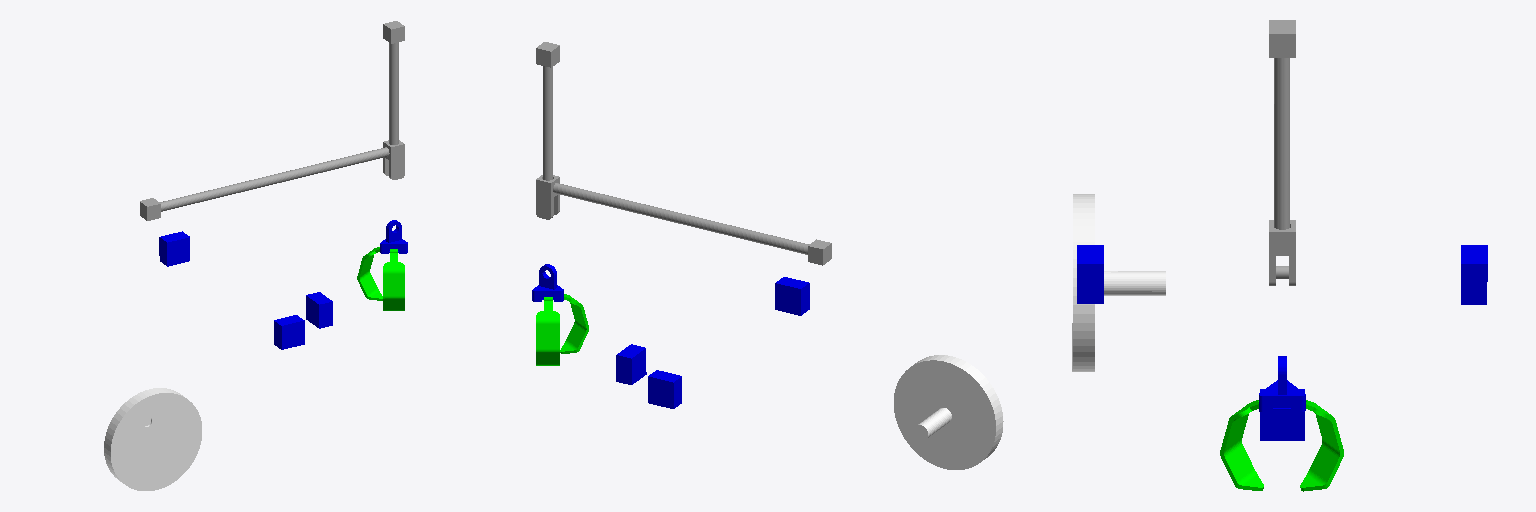
The robot description file, URDF, robot "bot":
<?xml version="1.0" encoding="utf-8"?>


<robot name="bot">
	
	<material name="gray">
		<color rgba="1 1 1 1"/>
	</material>
	<material name="orange">
		<color rgba="1 0.7 0 1"/>
	</material>
	<material name="black">
		<color rgba="0 0 0 1"/>
	</material>
	<material name="green">
		<color rgba="0 1 0 1"/>
	</material>
	<material name="blue">
		<color rgba="0 0 1 1"/>
	</material>
	<material name="cream">
		<color rgba="0.7 0.7 0.7 1"/>
	</material>


	<!--<link name="origin">
		<inertial>
			j  <origin xyz="0 0 0" rpy="0 0 0"/>
			<mass value="0.0001"/>
			<inertia ixx="0" ixy="0" ixz="0" iyy="0" iyz="0" izz="0"/>
		</inertial>
		<visual>
			<origin xyz="0 0 0" rpy="0 0 0"/>
			<geometry>
				<box size="0.00005 0.00005 0.00005"/>
			</geometry>
		</visual>
		<collision>
			<origin xyz="0 0 0" rpy="0 0 0"/>
			<geometry>
				<box size="0.00005 0.00005 0.00005"/>
			</geometry>
		</collision>
	</link>-->

	<link name="base_link">
		<inertial>
			<origin xyz="0 0 0.12" rpy="0 0 0"/>
			<mass value="10"/>
			<inertia ixx="10" ixy="10" ixz="10" iyy="10" iyz="10" izz="10"/>
		</inertial>
		<visual>
			<origin xyz="0 0 0.15" rpy="0 0 0"/>
			<geometry>
				<mesh filename="package://trial/meshes/base_link.STL" />
			</geometry>
			<material name = "orange"/>
		</visual>
		<collision>
			<origin xyz="0 0 0.12" rpy="0 0 0"/>
			<geometry>
				<mesh filename="package://trial/meshes/base_link.STL" />
			</geometry>
		</collision>
	</link>

	<!--<xacro:macro name="Wheel" params="X Y F">-->
	<link name="FRW">
		<inertial>
			<origin xyz="0 0 0.12" rpy="1.57 0 0"/>
			<mass value="3"/>
			<inertia ixx="10" ixy="10" ixz="10" iyy="10" iyz="10" izz="10"/>
		</inertial>
		<visual>
			<origin xyz="0 0 0.12" rpy="1.57 0 0"/>
			<geometry>
				<mesh filename="package://trial/meshes/FRW.STL" />
			</geometry>
			<material name = "gray"/>
		</visual>
		<collision>
			<origin xyz="0 0 0.12" rpy="1.57 0 0"/>
			<geometry>
				<mesh filename="package://trial/meshes/FRW.STL" />
			</geometry>
		</collision>
	</link>

	<joint name="FRWJ" type="continuous">
		<parent link = "base_link"/>
		<child link = "FRW"/>
		<origin xyz="0.125 0 0" rpy="0 0 0"/>
		<axis xyz="0 1 0"/>
	</joint>
	<!--</xacro:macro>

	<xacro:macro X="F" Y="R" F="package://trial/meshes/FRW.STL"/>
	<xacro:macro X="R" Y="R"/>
	<xacro:macro X="F" Y="L"/>
	<xacro:macro X="R" Y="L"/>-->

	<link name="RRW">

		<inertial>
			<origin xyz="0 0 0.12" rpy="1.57 0 0"/>

			<mass value="3"/>

			<inertia ixx="10" ixy="10" ixz="10" iyy="10" iyz="10" izz="10"/>

		</inertial>

		<visual>

			<origin xyz="0 0 0.12" rpy="1.57 0 0"/>

			<geometry>

				<mesh filename="package://trial/meshes/RRW.STL" />
			</geometry>
			<material name = "gray"/>
		</visual>
		<collision>
			<origin xyz="0 0 0.12" rpy="1.57 0 0"/>
			<geometry>
				<mesh filename="package://trial/meshes/RRW.STL" />
			</geometry>
		</collision>
	</link>

	<joint name="RRWJ" type="continuous">
		<parent link = "base_link"/>
		<child link = "RRW"/>
		<origin xyz="-0.125 0 0" rpy="0 0 0"/>
		<axis xyz="0 1 0"/>
	</joint>

	<link name="FLW">

		<inertial>

			<origin xyz="0 0 0.12" rpy="1.57 0 0"/>

			<mass value="3"/>

			<inertia ixx="10" ixy="10" ixz="10" iyy="10" iyz="10" izz="10"/>

		</inertial>

		<visual>

			<origin xyz="0 0 0.12" rpy="1.57 0 0"/>

			<geometry>

				<mesh filename="package://trial/meshes/FLW.STL" />
			</geometry>
			<material name = "gray"/>
		</visual>
		<collision>
			<origin xyz="0 0 0.12" rpy="1.57 0 0"/>
			<geometry>
				<mesh filename="package://trial/meshes/FLW.STL" />
			</geometry>
		</collision>
	</link>

	<joint name="FLWJ" type="continuous">
		<parent link = "base_link"/>
		<child link = "FLW"/>
		<origin xyz="0.125 0 0" rpy="0 0 0"/>
		<axis xyz="0 1 0"/>
	</joint>

	<link name="RLW">

		<inertial>

			<origin xyz="0 0 0.12" rpy="1.57 0 0"/>

			<mass value="3"/>

			<inertia ixx="10" ixy="10" ixz="10" iyy="10" iyz="10" izz="10"/>

		</inertial>

		<visual>

			<origin xyz="0 0 0.12" rpy="1.57 0 0"/>

			<geometry>

				<mesh filename="package://trial/meshes/RLW.STL" />
			</geometry>
			<material name = "gray"/>
		</visual>
		<collision>
			<origin xyz="0 0 0.12" rpy="1.57 0 0"/>
			<geometry>
				<mesh filename="package://trial/meshes/RLW.STL" />
			</geometry>
		</collision>
	</link>

	<joint name="RLWJ" type="continuous">
		<parent link = "base_link"/>
		<child link = "RLW"/>
		<origin xyz="-0.125 0 0" rpy="0 0 0"/>
		<axis xyz="0 1 0"/>
	</joint>



	<link name="FC">
		<inertial>
			<origin xyz="0 0 0" rpy="1.57 0 0"/>
			<mass value="0.25"/>
			<inertia ixx="0" ixy="0" ixz="0" iyy="0" iyz="0" izz="0"/>
		</inertial>
		<visual>
			<origin xyz="0 0 0" rpy="1.57 0 0"/>
			<geometry>
				<mesh filename="package://trial/meshes/FC.STL" />
			</geometry>
			<material name = "blue"/>
		</visual>
		<collision>
			<origin xyz="0 0 0" rpy="1.57 0 0"/>
			<geometry>
				<mesh filename="package://trial/meshes/FC.STL" />
			</geometry>
		</collision>
	</link>

	<joint name="FCJ" type="fixed">
		<parent link = "base_link"/>
		<child link = "FC"/>
		<origin xyz="0 0 0.12" rpy="0 0 0"/>
	</joint>

	<link name="LC">

		<inertial>

			<origin xyz="0 0 0" rpy="1.57 0 0"/>

			<mass value="0.25"/>

			<inertia ixx="0" ixy="0" ixz="0" iyy="0" iyz="0" izz="0"/>

		</inertial>

		<visual>

			<origin xyz="0 0 0" rpy="1.57 0 0"/>
			<geometry>
				<mesh filename="package://trial/meshes/LC.STL" />
			</geometry>
			<material name = "blue"/>
		</visual>
		<collision>
			<origin xyz="0 0 0" rpy="1.57 0 0"/>
			<geometry>
				<mesh filename="package://trial/meshes/LC.STL" />
			</geometry>
		</collision>
	</link>

	<joint name="LCJ" type="fixed">
		<parent link = "base_link"/>
		<child link = "LC"/>
		<origin xyz="0 0 0.12" rpy="0 0 0"/>
	</joint>

	<link name="RC">

		<inertial>

			<origin xyz="0 0 0" rpy="1.57 0 0"/>

			<mass value="0.25"/>

			<inertia ixx="0" ixy="0" ixz="0" iyy="0" iyz="0" izz="0"/>

		</inertial>

		<visual>

			<origin xyz="0 0 0" rpy="1.57 0 0"/>
			<geometry>
				<mesh filename="package://trial/meshes/RC.STL" />
			</geometry>
			<material name = "blue"/>
		</visual>
		<collision>
			<origin xyz="0 0 0" rpy="1.57 0 0"/>
			<geometry>
				<mesh filename="package://trial/meshes/RC.STL" />
			</geometry>
		</collision>
	</link>

	<joint name="RCJ" type="fixed">
		<parent link = "base_link"/>
		<child link = "RC"/>
		<origin xyz="0 0 0.12" rpy="0 0 0"/>
	</joint>


	<link name="EP1">
		<inertial>
			<origin xyz="0 0 0" rpy="1.57 0 0"/>
			<mass value="0.5"/>
			<inertia ixx="0" ixy="0" ixz="0" iyy="0" iyz="0" izz="0"/>
		</inertial>
		<visual>
			<origin xyz="0 0 0.03" rpy="1.57 0 0"/>
			<geometry>
				<mesh filename="package://trial/meshes/EP1.STL" />
			</geometry>
			<material name = "cream"/>
		</visual>
		<collision>
			<origin xyz="0 0 0" rpy="1.57 0 0"/>
			<geometry>
				<mesh filename="package://trial/meshes/EP1.STL" />
			</geometry>
		</collision>
	</link>

	<joint name="EP1J" type="prismatic">
		<parent link = "base_link"/>
		<child link = "EP1"/>
		<origin xyz="0 0 0.12" rpy="0 0 0"/>
		<axis xyz="1 0 0"/>
		<limit upper="0" lower="-0.35" effort="10" velocity="0.1"/>
	</joint>

	<link name="EP2">
		<inertial>
			<origin xyz="0 0 0" rpy="1.57 0 0"/>
			<mass value="0.5"/>
			<inertia ixx="0" ixy="0" ixz="0" iyy="0" iyz="0" izz="0"/>
		</inertial>
		<visual>
			<origin xyz="0 0 0.12" rpy="1.57 0 0"/>
			<geometry>
				<mesh filename="package://trial/meshes/EP2.STL" />
			</geometry>
			<material name = "cream"/>
		</visual>
		<collision>
			<origin xyz="0 0 0" rpy="1.57 0 0"/>
			<geometry>
				<mesh filename="package://trial/meshes/EP2.STL" />
			</geometry>
		</collision>
	</link>

	<joint name="EP2J" type="prismatic">
		<parent link = "EP1"/>
		<child link = "EP2"/>
		<origin xyz="0 0 0.12" rpy="0 0 0"/>
		<axis xyz="0 0 1"/>
		<limit upper="0" lower="-0.23" effort="10" velocity="0.1"/>
	</joint>

	<link name="CH">
		<inertial>
			<origin xyz="0 0 0" rpy="1.57 0 0"/>
			<mass value="0.5"/>
			<inertia ixx="0" ixy="0" ixz="0" iyy="0" iyz="0" izz="0"/>
		</inertial>
		<visual>
			<origin xyz="0 0 0" rpy="1.57 0 0"/>
			<geometry>
				<mesh filename="package://trial/meshes/CH.STL" />
			</geometry>
			<material name = "blue"/>
		</visual>
		<collision>
			<origin xyz="0 0 0" rpy="1.57 0 0"/>
			<geometry>
				<mesh filename="package://trial/meshes/CH.STL" />
			</geometry>
		</collision>
	</link>

	<joint name="CHJ" type="revolute">
		<parent link = "EP2"/>
		<child link = "CH"/>
		<origin xyz="0 0 0" rpy="0 0 0"/>
		<axis xyz="0 1 0"/>
		<limit upper="0" lower="-0.35" effort="10" velocity="0.125"/>
	</joint>

	<link name="F1">
		<inertial>
			<origin xyz="0 0 0" rpy="1.57 0 0"/>
			<mass value="0.5"/>
			<inertia ixx="0" ixy="0" ixz="0" iyy="0" iyz="0" izz="0"/>
		</inertial>
		<visual>
			<origin xyz="0 0 0" rpy="1.57 0 0"/>
			<geometry>
				<mesh filename="package://trial/meshes/F1.STL" />
			</geometry>
			<material name = "green"/>
		</visual>
		<collision>
			<origin xyz="0 0 0" rpy="1.57 0 0"/>
			<geometry>
				<mesh filename="package://trial/meshes/F1.STL" />
			</geometry>
		</collision>
	</link>

	<joint name="F1J" type="revolute">
		<parent link = "CH"/>
		<child link = "F1"/>
		<origin xyz="0 0 0" rpy="0 0 0"/>
		<axis xyz="1 1 0"/>
		<limit upper="0" lower="-0.35" effort="10" velocity="0.125"/>
	</joint>

	<link name="F2">
		<inertial>
			<origin xyz="0 0 0" rpy="1.57 0 0"/>
			<mass value="0.5"/>
			<inertia ixx="0" ixy="0" ixz="0" iyy="0" iyz="0" izz="0"/>
		</inertial>
		<visual>
			<origin xyz="0 0 0" rpy="1.57 0 0"/>
			<geometry>
				<mesh filename="package://trial/meshes/F2.STL" />
			</geometry>
			<material name = "green"/>
		</visual>
		<collision>
			<origin xyz="0 0 0" rpy="1.57 0 0"/>
			<geometry>
				<mesh filename="package://trial/meshes/F2.STL" />
			</geometry>
		</collision>
	</link>

	<joint name="F2J" type="revolute">
		<parent link = "CH"/>
		<child link = "F2"/>
		<origin xyz="0 0 0" rpy="0 0 0"/>
		<axis xyz="1 -1 0"/>
		<limit upper="0" lower="-0.35" effort="10" velocity="0.125"/>
	</joint>

	<link name="F3">
		<inertial>
			<origin xyz="0 0 0" rpy="1.57 0 0"/>
			<mass value="0.5"/>
			<inertia ixx="0" ixy="0" ixz="0" iyy="0" iyz="0" izz="0"/>
		</inertial>
		<visual>
			<origin xyz="0 0 0" rpy="1.57 0 0"/>
			<geometry>
				<mesh filename="package://trial/meshes/F3.STL" />
			</geometry>
			<material name = "green"/>
		</visual>
		<collision>
			<origin xyz="0 0 0" rpy="1.57 0 0"/>
			<geometry>
				<mesh filename="package://trial/meshes/F3.STL" />
			</geometry>
		</collision>
	</link>

	<joint name="F3J" type="revolute">
		<parent link = "CH"/>
		<child link = "F3"/>
		<origin xyz="0 0 0" rpy="0 0 0"/>
		<axis xyz="0 0 1"/>
		<limit upper="0" lower="-0.35" effort="10" velocity="0.125"/>
	</joint>
</robot>

--- Render facts (derived) ---
3 views of the same robot in one strip: view 1: azimuth 30°, elevation 25°; view 2: azimuth 150°, elevation 25°; view 3: azimuth 270°, elevation 25° (orthographic).
Model bot with 14 links and 13 joints (4 revolute, 4 continuous, 2 prismatic, 3 fixed), rooted at base_link, posed all joints at 0.
Links seen in each view (by area): view 1: RRW, EP1, EP2, F3, RC, LC, FC, F1, CH; view 2: RRW, EP1, EP2, F1, RC, LC, FC, F3, CH; view 3: RRW, EP2, F3, F1, LC, RC, CH, FC, EP1.
Boxes of the visible links, left/top/right/bottom form: RRW: left=104, top=388, right=201, bottom=490; EP1: left=140, top=140, right=404, bottom=220; EP2: left=383, top=21, right=404, bottom=179; F3: left=383, top=249, right=404, bottom=310; RC: left=274, top=315, right=304, bottom=349; LC: left=159, top=231, right=189, bottom=266; FC: left=306, top=292, right=332, bottom=328; F1: left=357, top=247, right=382, bottom=300; CH: left=380, top=220, right=407, bottom=253; RRW: left=894, top=355, right=1003, bottom=469; EP1: left=536, top=175, right=831, bottom=265; EP2: left=536, top=42, right=559, bottom=219; F1: left=536, top=297, right=559, bottom=365; RC: left=775, top=277, right=809, bottom=315; LC: left=648, top=370, right=681, bottom=408; FC: left=616, top=344, right=646, bottom=384; F3: left=560, top=294, right=588, bottom=353; CH: left=532, top=264, right=563, bottom=301; RRW: left=1072, top=194, right=1165, bottom=371; EP2: left=1269, top=22, right=1295, bottom=285; F3: left=1220, top=400, right=1263, bottom=490; F1: left=1300, top=400, right=1343, bottom=491; LC: left=1461, top=245, right=1487, bottom=304; RC: left=1077, top=245, right=1103, bottom=303; CH: left=1259, top=356, right=1305, bottom=411; FC: left=1260, top=389, right=1304, bottom=440; EP1: left=1269, top=20, right=1295, bottom=255.
Size in the robot's own frame: 0.7698 by 0.4652 by 0.7198 metres.
9 mesh visuals loaded from 14 distinct referenced files (9 binary STL); not drawn: 5 (reference not matched to a file when rendering).